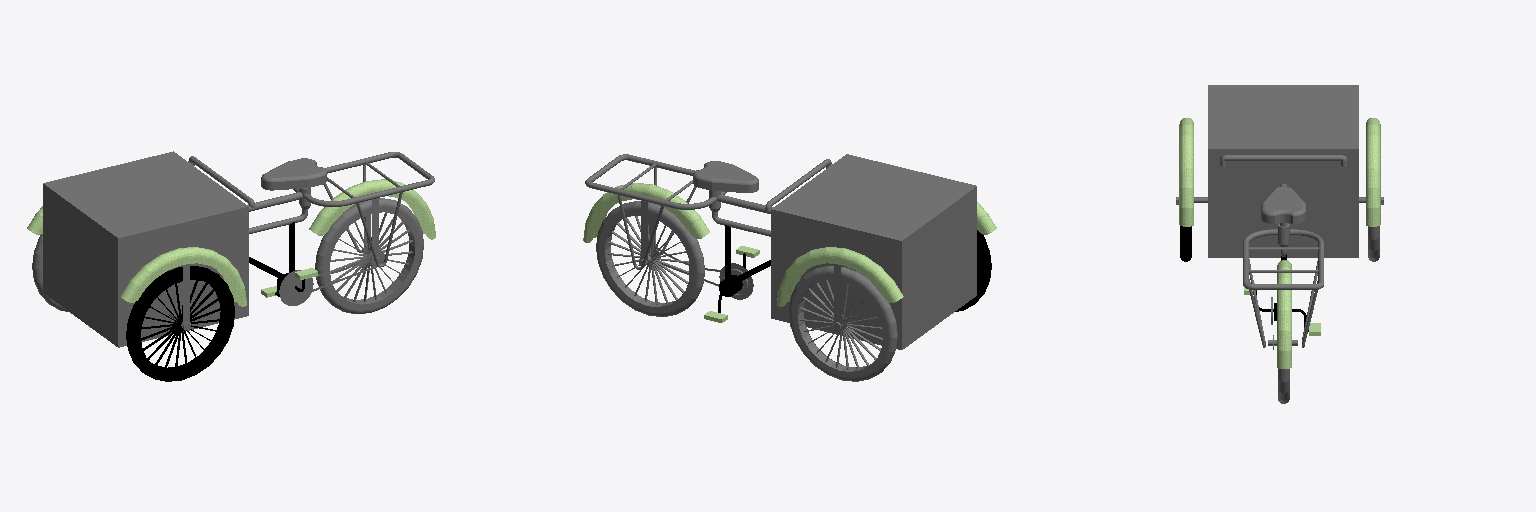
The picture shows the model from 3 angles: view 1: azimuth 30°, elevation 25°; view 2: azimuth 150°, elevation 25°; view 3: azimuth 270°, elevation 25°; orthographic projection.
Parts seen in each view (by area): view 1: Agrupar_1__54094_, Agrupar_3__7284_, Agrupar_3__46191_, Agrupar_2__1502_, Agrupar_12__54096_, Agrupar_9__46203_, Agrupar_14__56942_, Agrupar_10__46204_, Agrupar_4__1504_, __56231_; view 2: Agrupar_1__54094_, Agrupar_3__7284_, Agrupar_3__46191_, Agrupar_2__1502_, Agrupar_12__54096_, Agrupar_9__46203_, Agrupar_10__46204_, Agrupar_14__56942_, __56231_, Agrupar_4__1504_, Agrupar_4__1503_; view 3: Agrupar_1__54094_, Agrupar_2__1502_, Agrupar_9__46203_, Agrupar_12__54096_, Agrupar_10__46204_, Agrupar_3__7284_.
Part boxes in pixels (x1,y1,x2,y2): Agrupar_1__54094_: (43,151,310,347); Agrupar_3__7284_: (32,234,234,381); Agrupar_3__46191_: (315,198,423,313); Agrupar_2__1502_: (27,179,435,306); Agrupar_12__54096_: (261,158,326,190); Agrupar_9__46203_: (293,152,434,206); Agrupar_14__56942_: (279,251,384,305); Agrupar_10__46204_: (323,161,402,266); Agrupar_4__1504_: (182,198,378,327); __56231_: (249,222,294,279); Agrupar_1__54094_: (709,154,976,349); Agrupar_3__7284_: (789,230,991,381); Agrupar_3__46191_: (596,201,704,316); Agrupar_2__1502_: (583,183,996,306); Agrupar_12__54096_: (693,161,758,192); Agrupar_9__46203_: (585,154,726,209); Agrupar_10__46204_: (618,164,696,269); Agrupar_14__56942_: (655,246,753,299); __56231_: (725,225,770,283); Agrupar_4__1504_: (648,217,841,327); Agrupar_4__1503_: (639,201,849,321); Agrupar_1__54094_: (1208,85,1358,257); Agrupar_2__1502_: (1179,118,1380,368); Agrupar_9__46203_: (1243,229,1323,289); Agrupar_12__54096_: (1261,186,1305,223); Agrupar_10__46204_: (1249,247,1318,347); Agrupar_3__7284_: (1180,226,1379,261).
Size of the model in its own units: 109 by 49.61 by 54.11.
Materials: 5 (1 with a texture image).